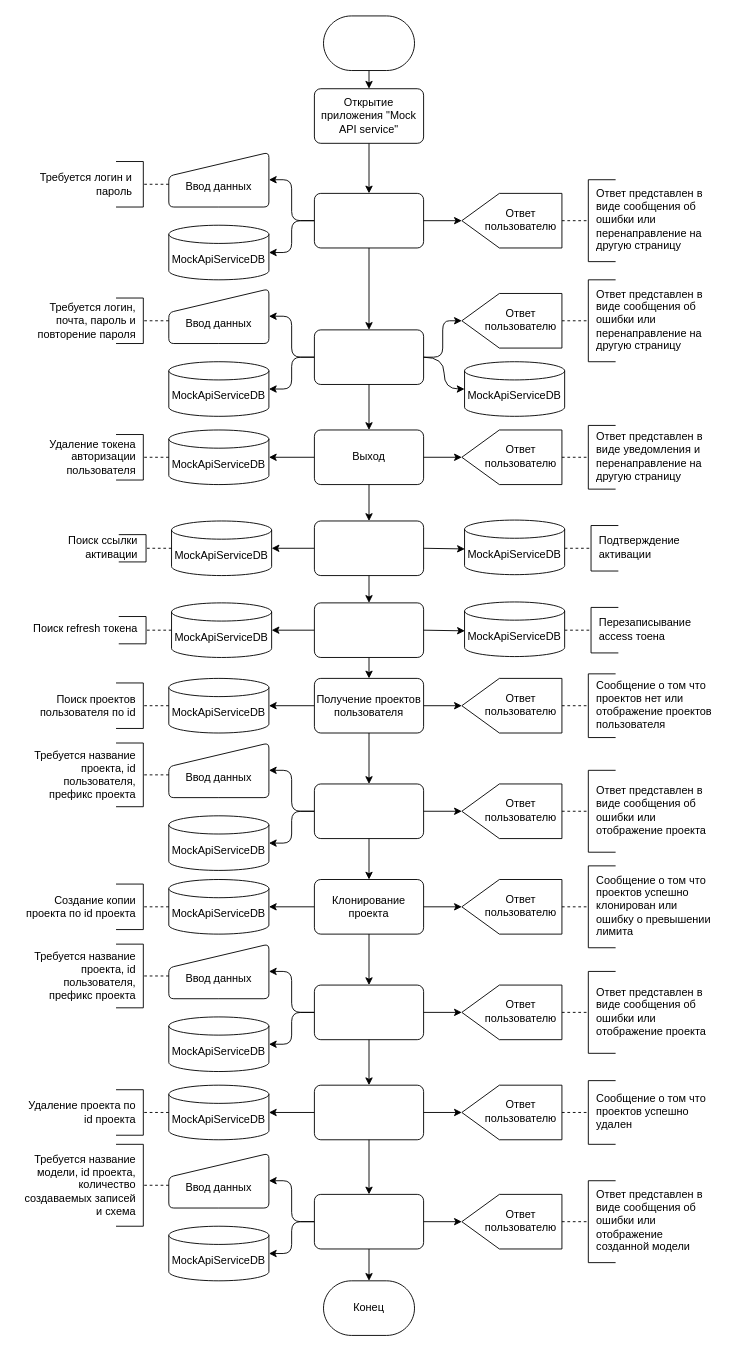
Image size: 731x1351. Some labels were removed from this diagram. Each missing label, with the box of its shape:
Авторизация: (313, 192, 424, 248)
Активация аккаунта: (313, 520, 424, 576)
Изменение проекта: (313, 984, 424, 1040)
Начало: (323, 15, 415, 71)
Обновление токена: (313, 602, 424, 657)
Регистрация: (313, 329, 424, 384)
Создание модели: (313, 1193, 424, 1249)
Создание проекта: (313, 783, 424, 839)
Удаление проекта: (313, 1084, 424, 1140)
